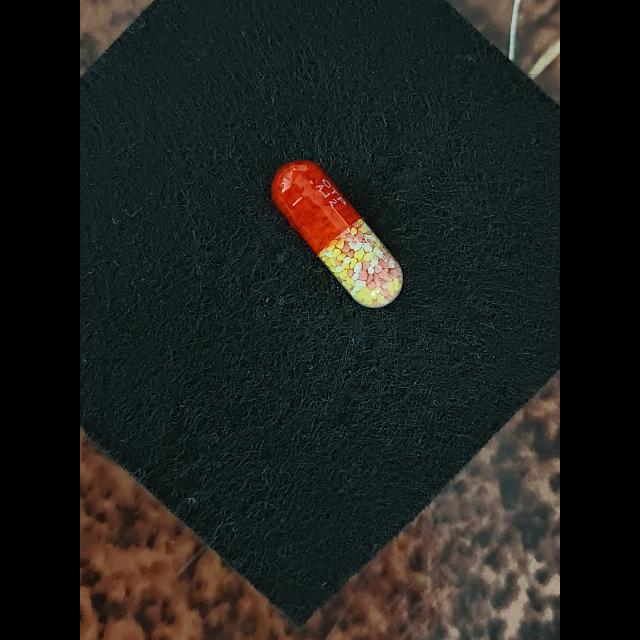Intact Capsule: (271, 159, 403, 308)
